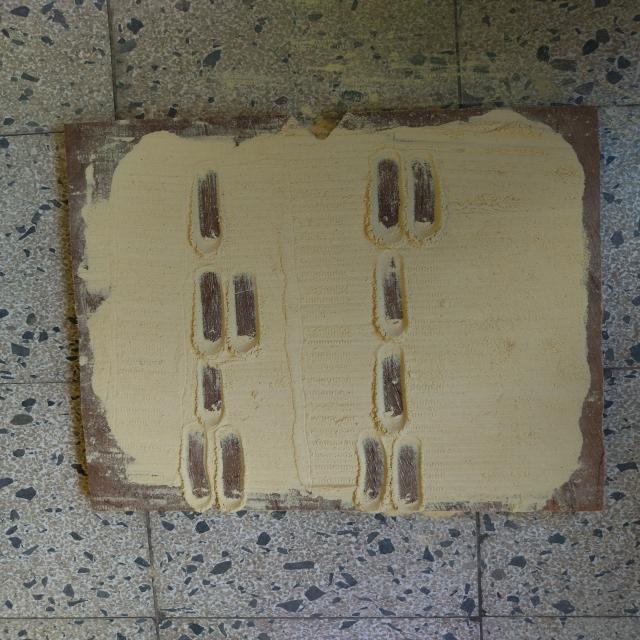double: (360, 144, 444, 246), (186, 260, 270, 359), (174, 421, 254, 515), (350, 432, 433, 514)
single: (368, 243, 417, 340), (183, 162, 231, 258), (369, 340, 416, 436), (191, 358, 231, 429)
